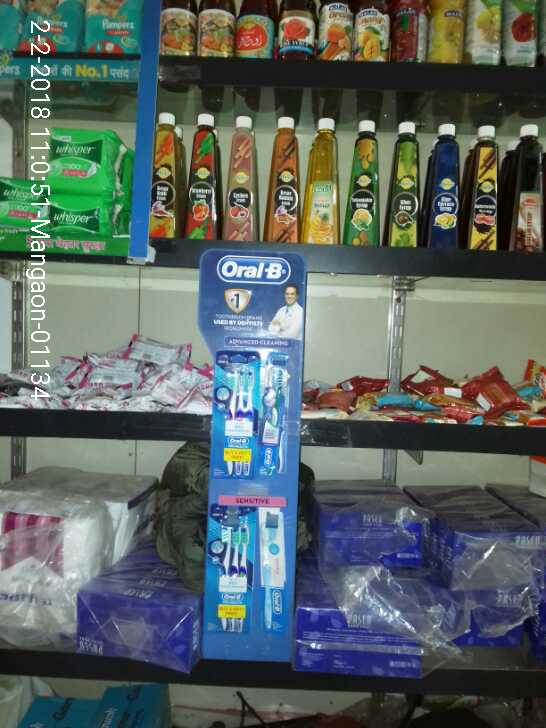pharmacy: (43, 123, 125, 189), (223, 349, 256, 484), (21, 5, 84, 54), (265, 357, 291, 475), (46, 194, 118, 233), (87, 4, 141, 54)
